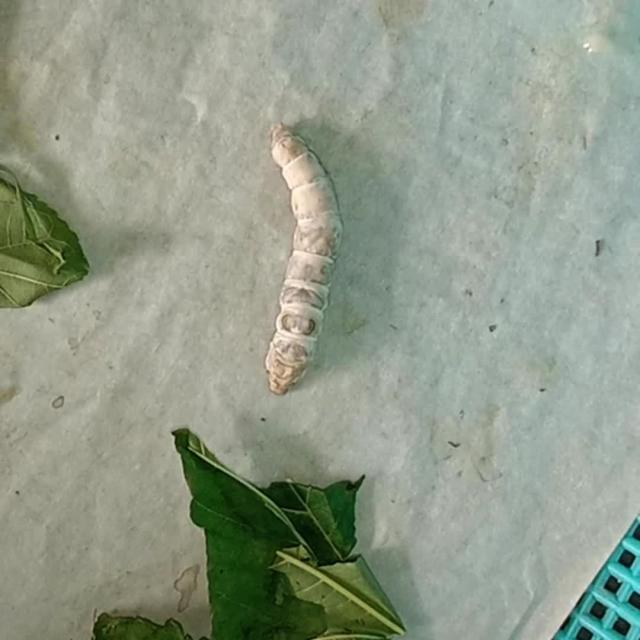Grasserie: (234, 105, 404, 414)
